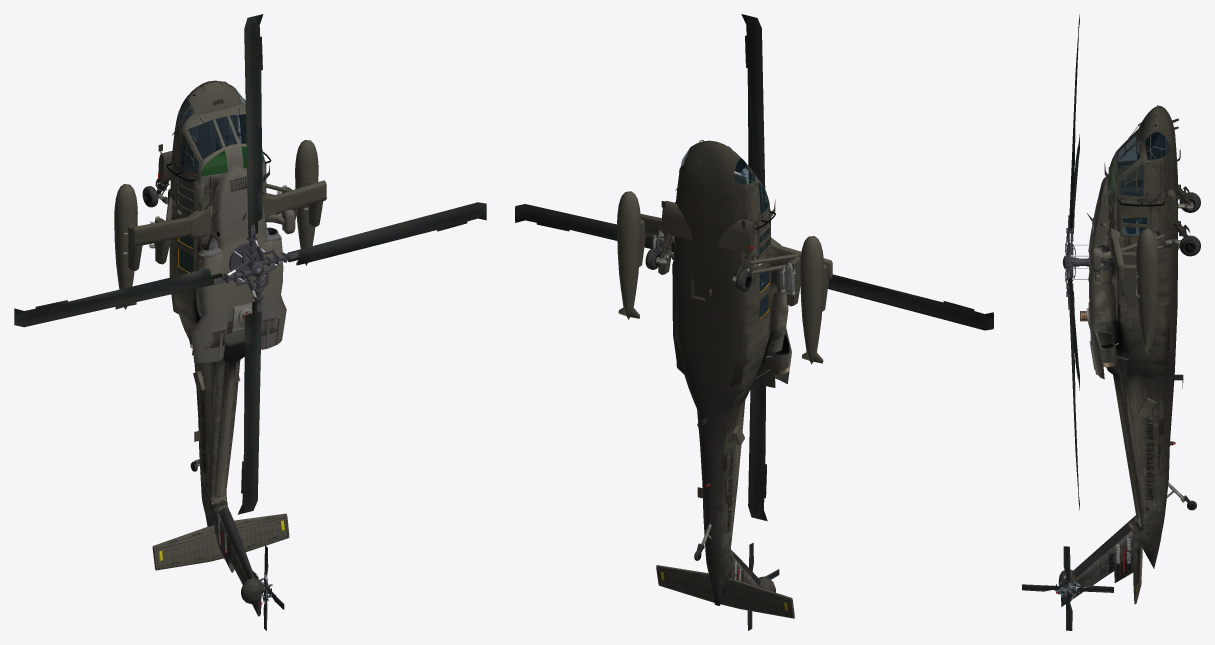
The picture shows the model from 3 angles, left to right: view 1: azimuth 30°, elevation 25°; view 2: azimuth 150°, elevation 25°; view 3: azimuth 270°, elevation 25°; orthographic projection.
Visible parts, largest first — view 1: fuselage, main_rotor, elevator, cabinDoor_L, Door_L; view 2: fuselage, main_rotor, elevator, Door_L, cabinDoor_L; view 3: fuselage, main_rotor, cabinDoor_R, rear_rotor, Door_R, cabinDoor_L, elevator, tyre_R, Window_R2, Door_L, window_R1.
Part boxes in pixels (bbox=[...]): fuselage: bbox=[114, 80, 326, 616]; main_rotor: bbox=[14, 14, 486, 514]; elevator: bbox=[152, 513, 289, 570]; cabinDoor_L: bbox=[171, 124, 202, 178]; Door_L: bbox=[170, 213, 193, 275]; fuselage: bbox=[617, 140, 832, 605]; main_rotor: bbox=[515, 14, 993, 521]; elevator: bbox=[656, 565, 794, 618]; Door_L: bbox=[743, 262, 769, 334]; cabinDoor_L: bbox=[743, 180, 769, 222]; fuselage: bbox=[1056, 105, 1193, 606]; main_rotor: bbox=[1062, 14, 1090, 510]; cabinDoor_R: bbox=[1116, 160, 1165, 199]; rear_rotor: bbox=[1022, 546, 1113, 630]; Door_R: bbox=[1120, 246, 1171, 305]; cabinDoor_L: bbox=[1116, 132, 1164, 165]; elevator: bbox=[1133, 545, 1142, 604]; tyre_R: bbox=[1179, 235, 1200, 256]; Window_R2: bbox=[1120, 213, 1148, 226]; Door_L: bbox=[1121, 215, 1147, 234]; window_R1: bbox=[1120, 225, 1148, 237].
Bounding box in the file's own units: 15.93 × 19.69 × 5.23.
